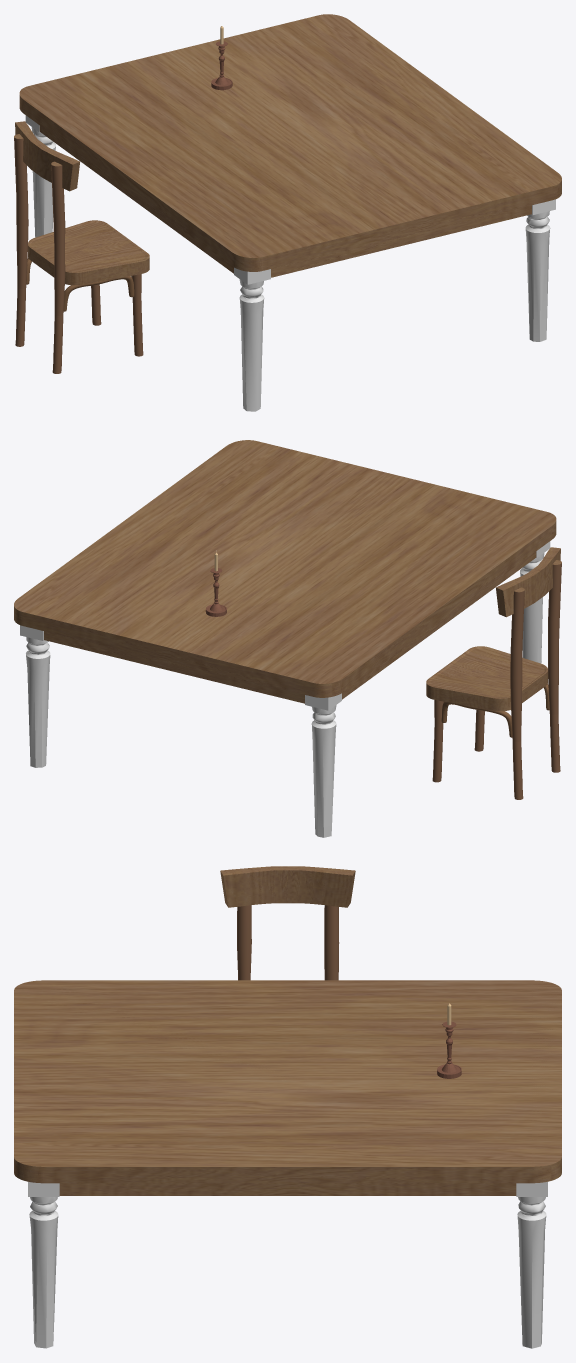
Rendered from table_et_chaise.fbx.
3 views of the same model, one above another, from view 1: azimuth 30°, elevation 25°; view 2: azimuth 150°, elevation 25°; view 3: azimuth 270°, elevation 25° (orthographic). The views are drawn at different scales.
Visible parts, largest first — view 1: Cube, Cube.004, Cylindre.006; view 2: Cube, Cube.004, Cylindre.006; view 3: Cube, Cube.004, Cylindre.006.
Part boxes in pixels (box(x1,y1,x2,y2)): Cube: box(19, 14, 561, 411); Cube.004: box(14, 121, 149, 373); Cylindre.006: box(211, 26, 232, 90); Cube: box(14, 440, 556, 837); Cube.004: box(426, 547, 561, 799); Cylindre.006: box(205, 552, 226, 616); Cube: box(14, 980, 561, 1348); Cube.004: box(220, 866, 355, 980); Cylindre.006: box(437, 1003, 461, 1078).
Bounding box in the file's own units: 349 × 686 × 660.
7 materials, 2 textured.
